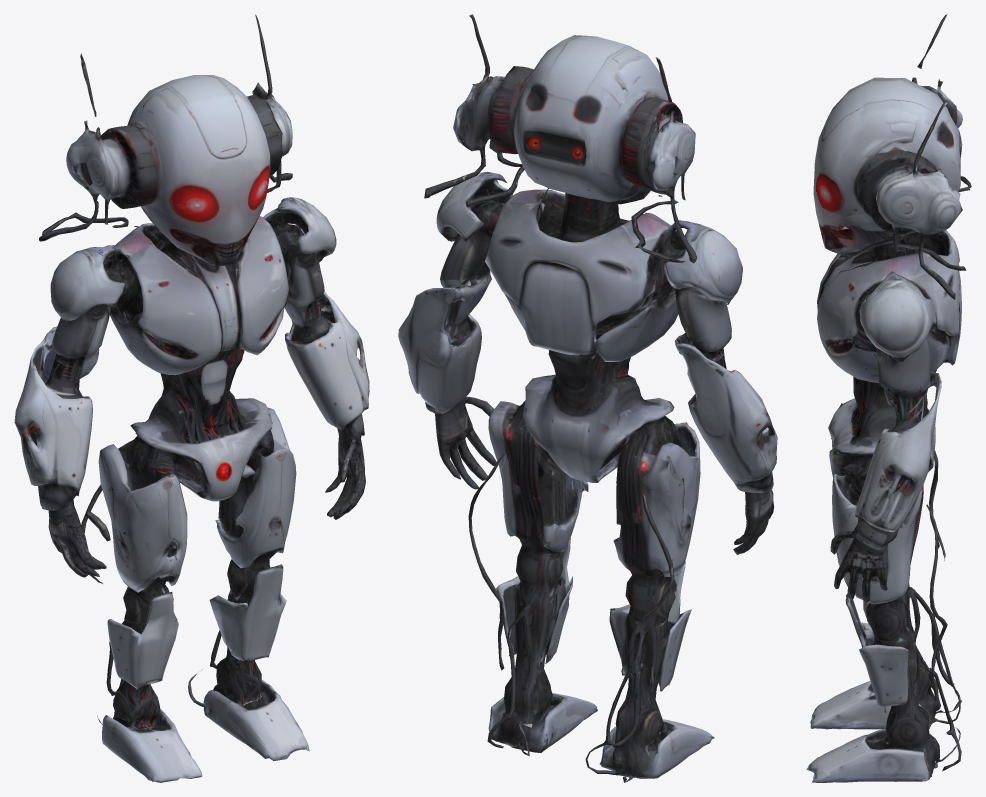
File: robot.glb
3 views of the same model, side by side, from view 1: azimuth 30°, elevation 25°; view 2: azimuth 150°, elevation 25°; view 3: azimuth 270°, elevation 25° (orthographic). The views are drawn at different scales.
Size of the model in its own units: 1.04 by 1.99 by 0.4329.
Materials: 1 (1 with a texture image).
